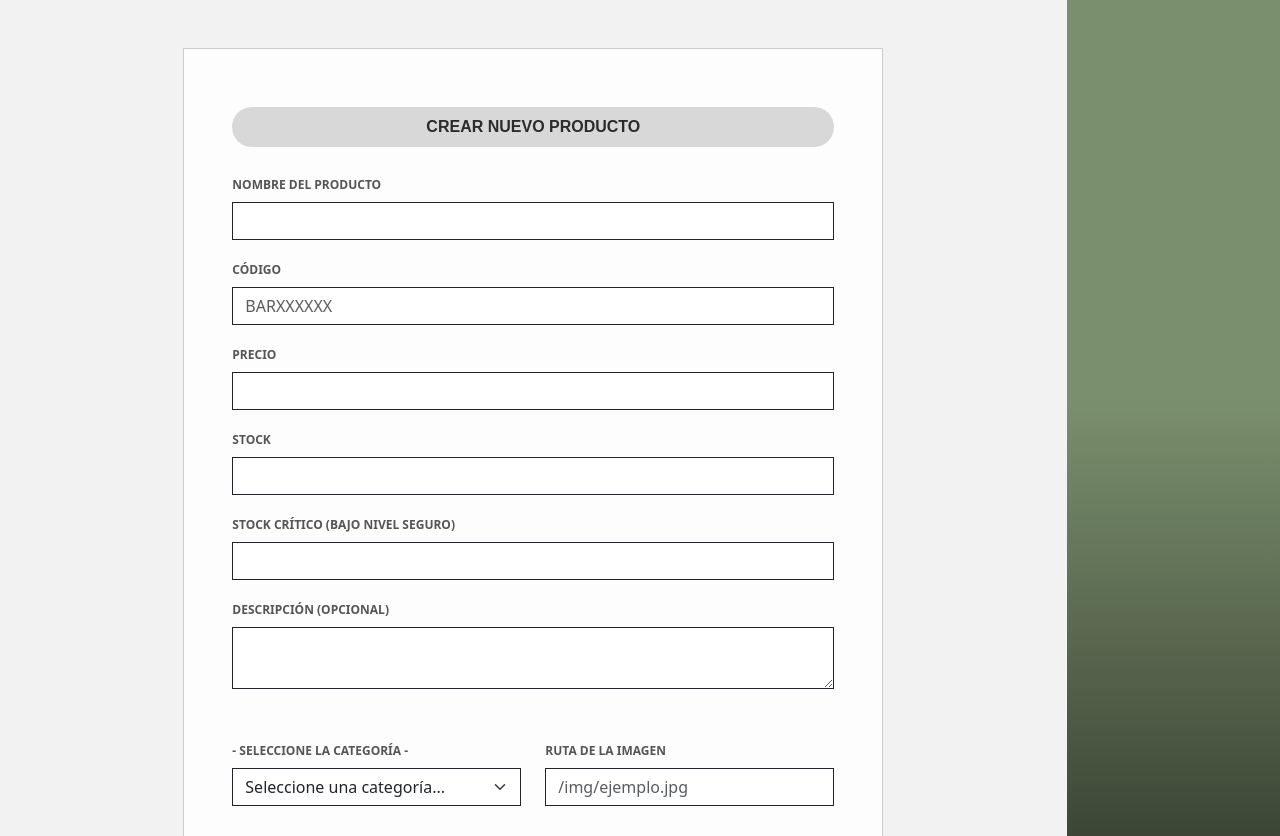
vista admin de crear producto › guarda el producto con el siguiente id y muestra el aviso
Type "Mario Kart 64" into the 1st field at (533, 221), box [232,202,834,240]
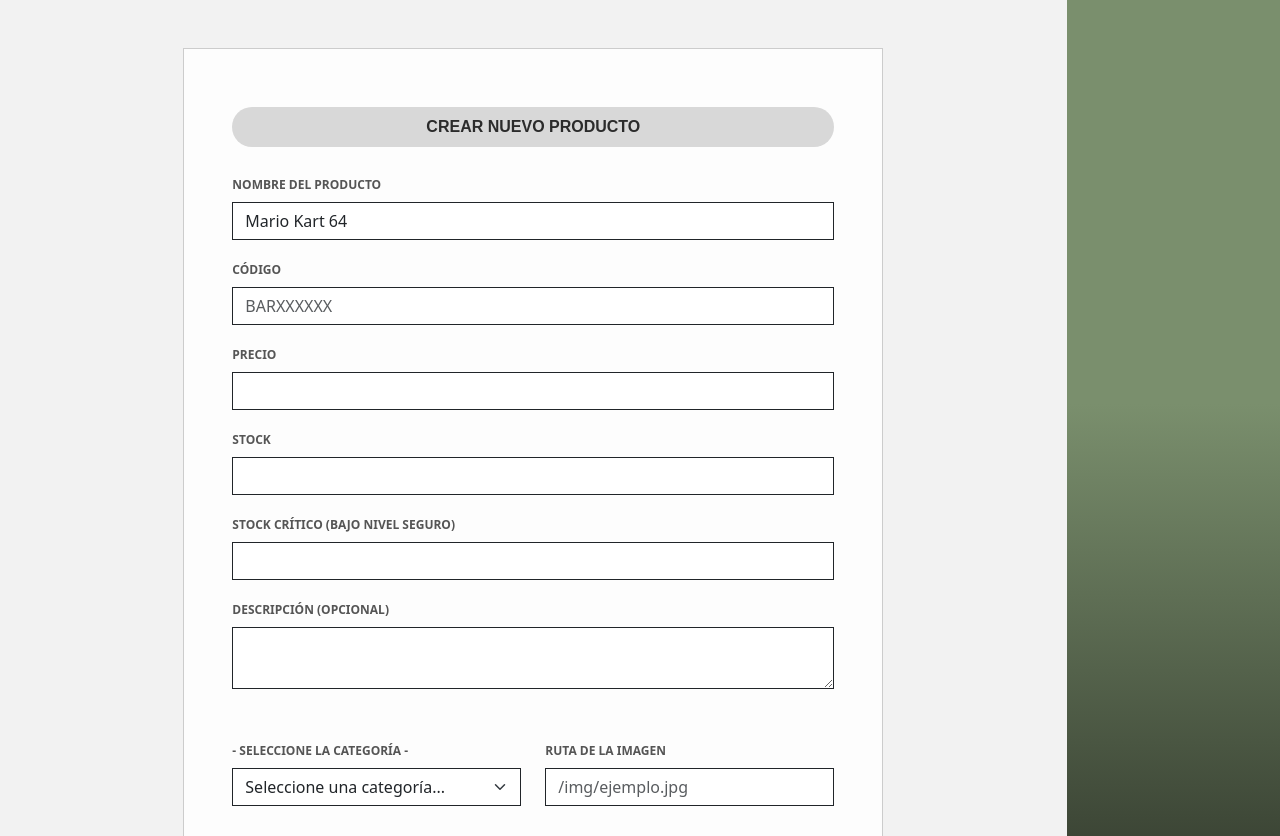
Type "BAR000099" into the field with placeholder "BARXXXXXX" at (533, 306), box [232,287,834,325]
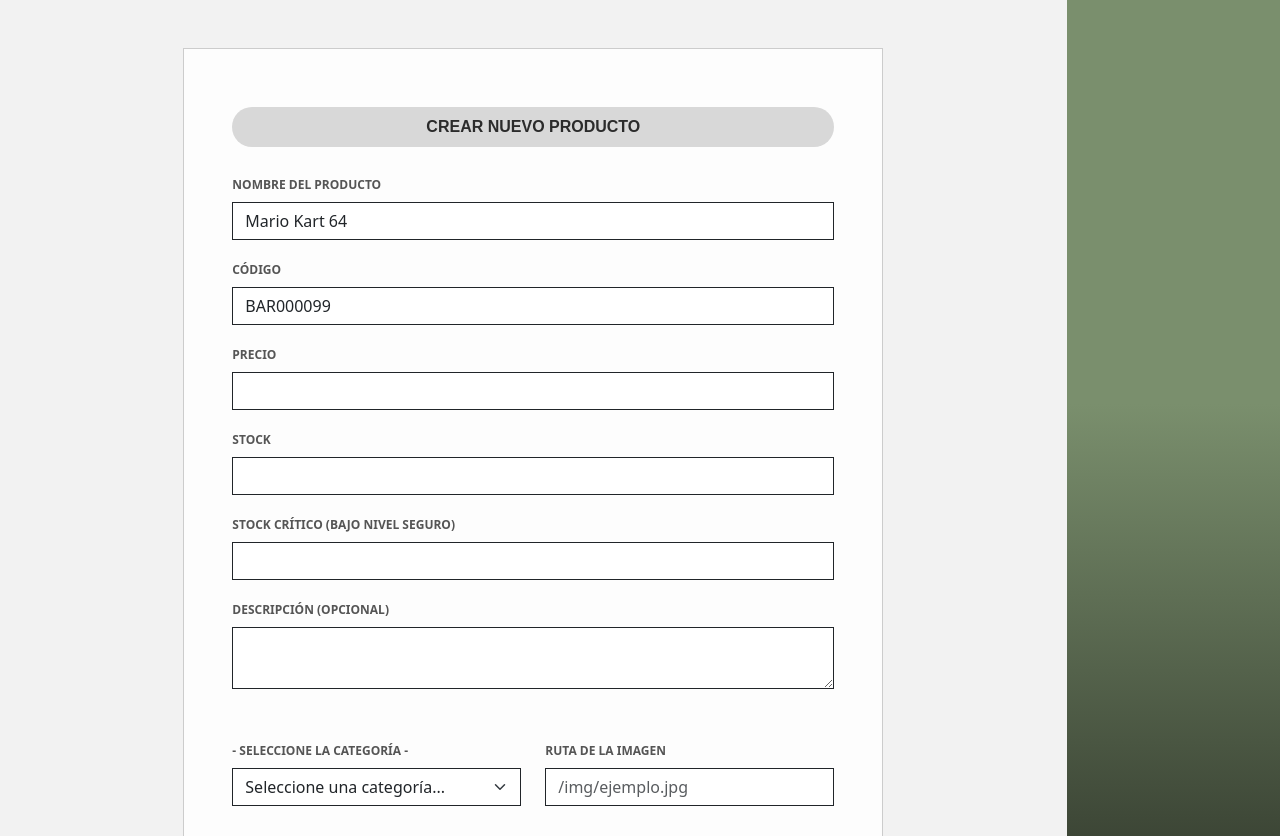
Type "25000" into the number field below "Precio" at (533, 391), box [232,372,834,410]
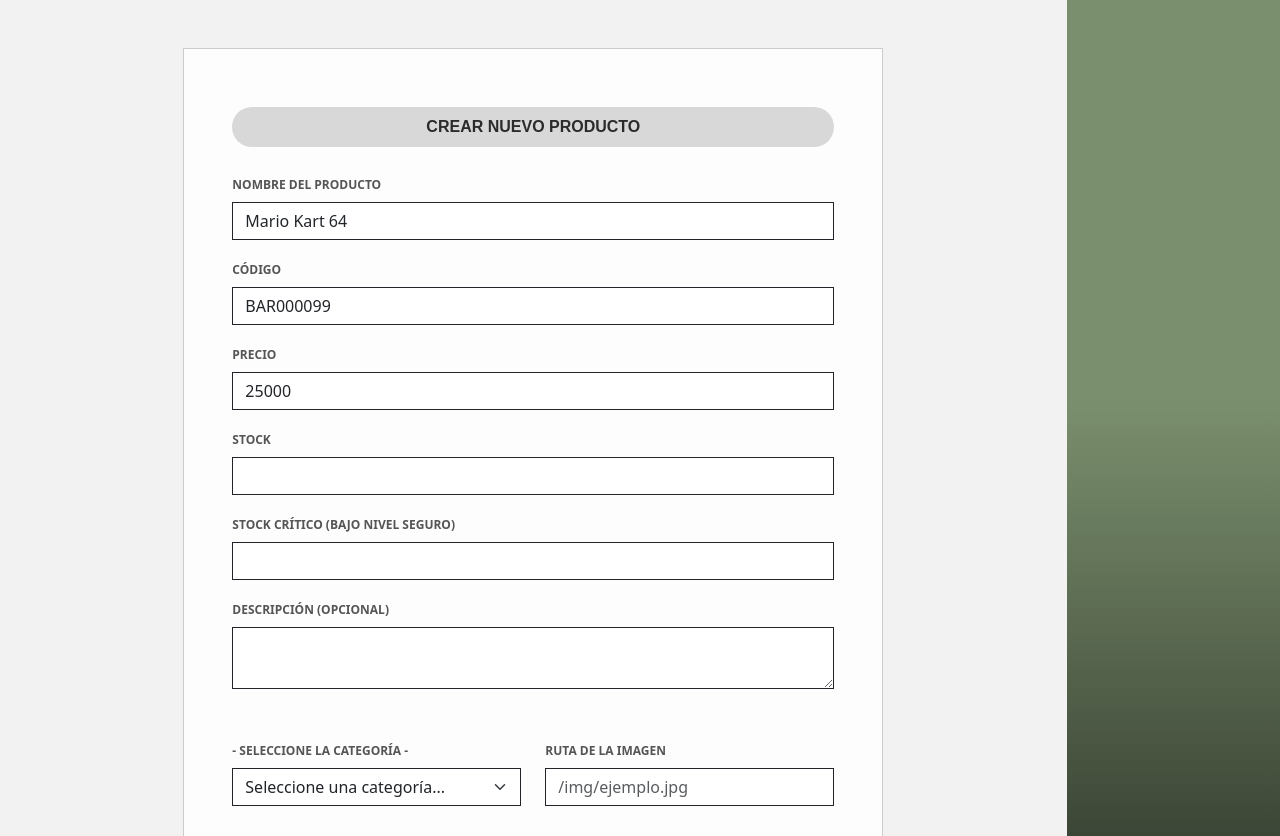
Type "4" into the 2nd number field at (533, 476), box [232,457,834,495]
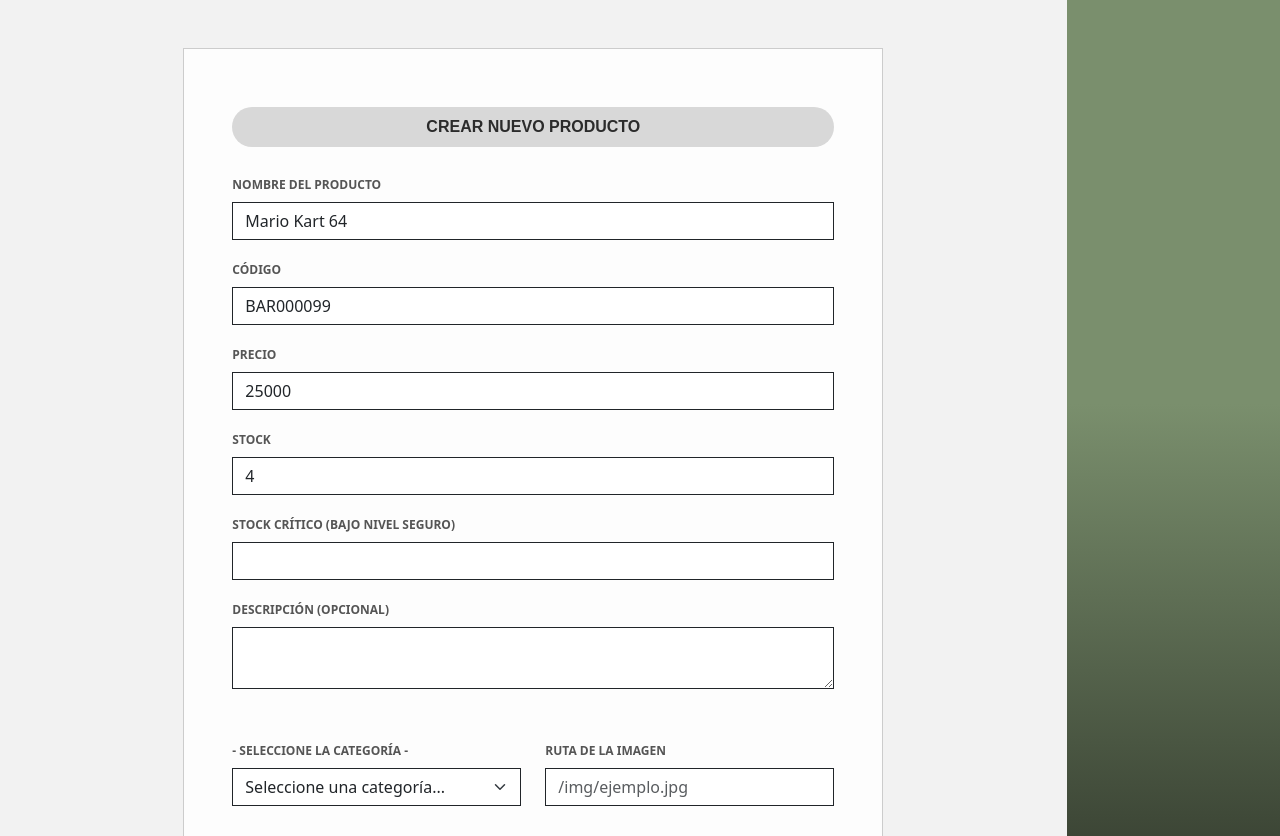
Select "Juegos" in the dropdown at (377, 787), box [232,768,521,806]
(page scrolled)
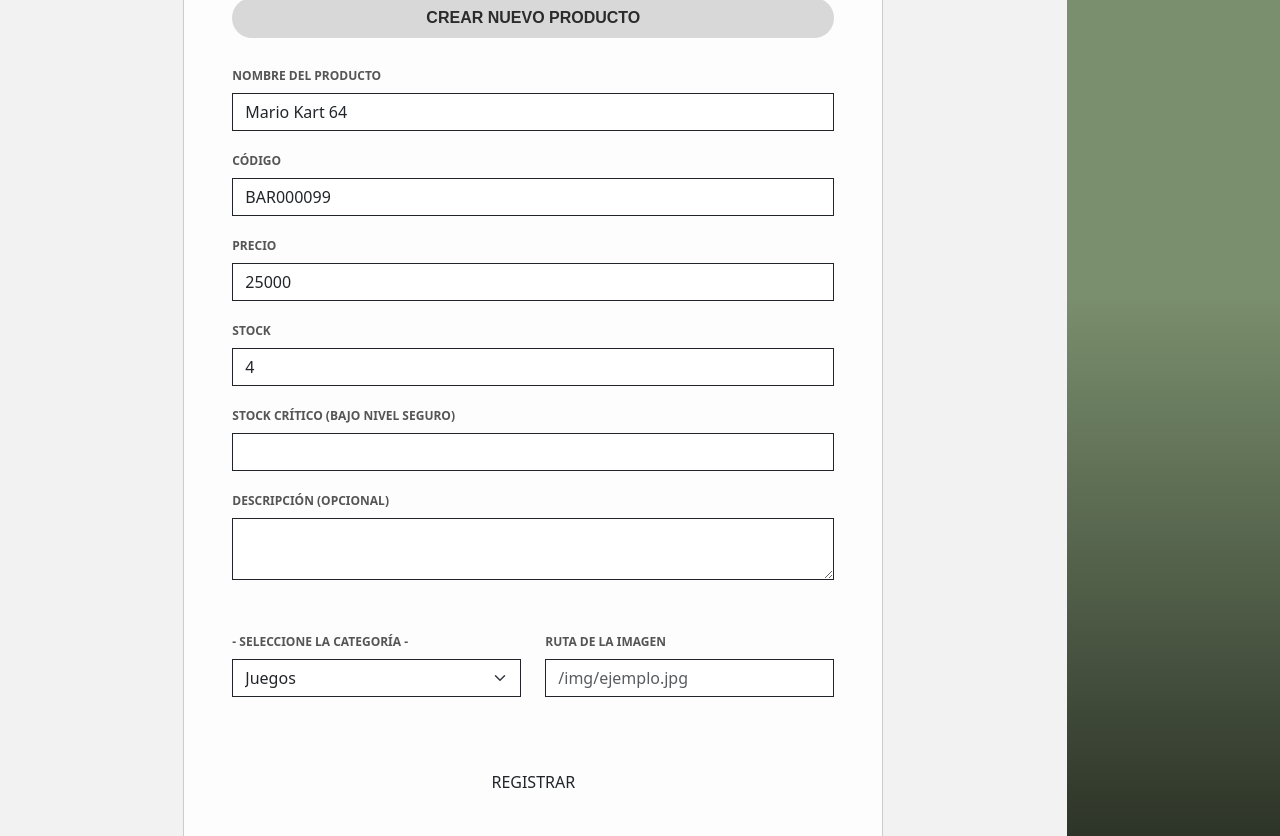
Click the button "Registrar" at (533, 782), box [433,761,633,803]
Wait 1500 ms
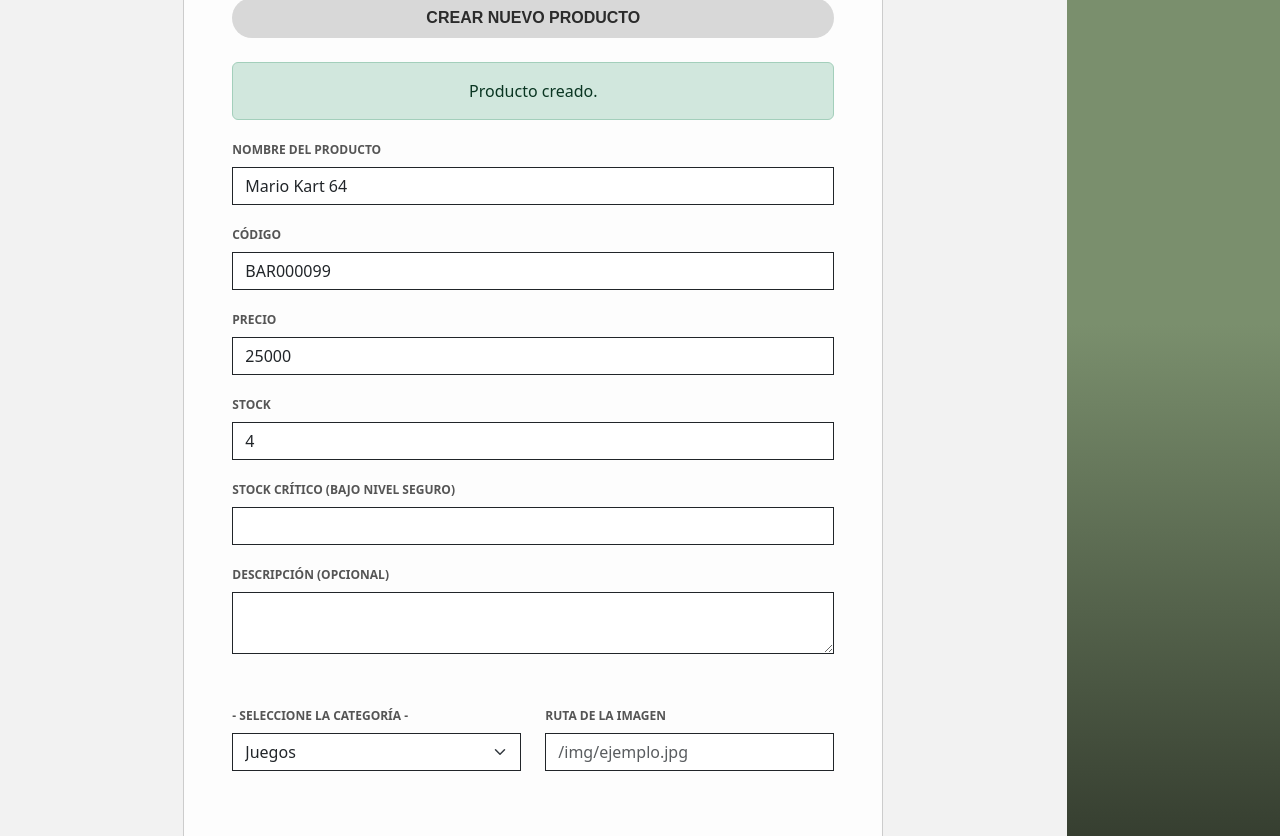
Expected: the text "Producto creado." is shown, [232,62,834,120]
